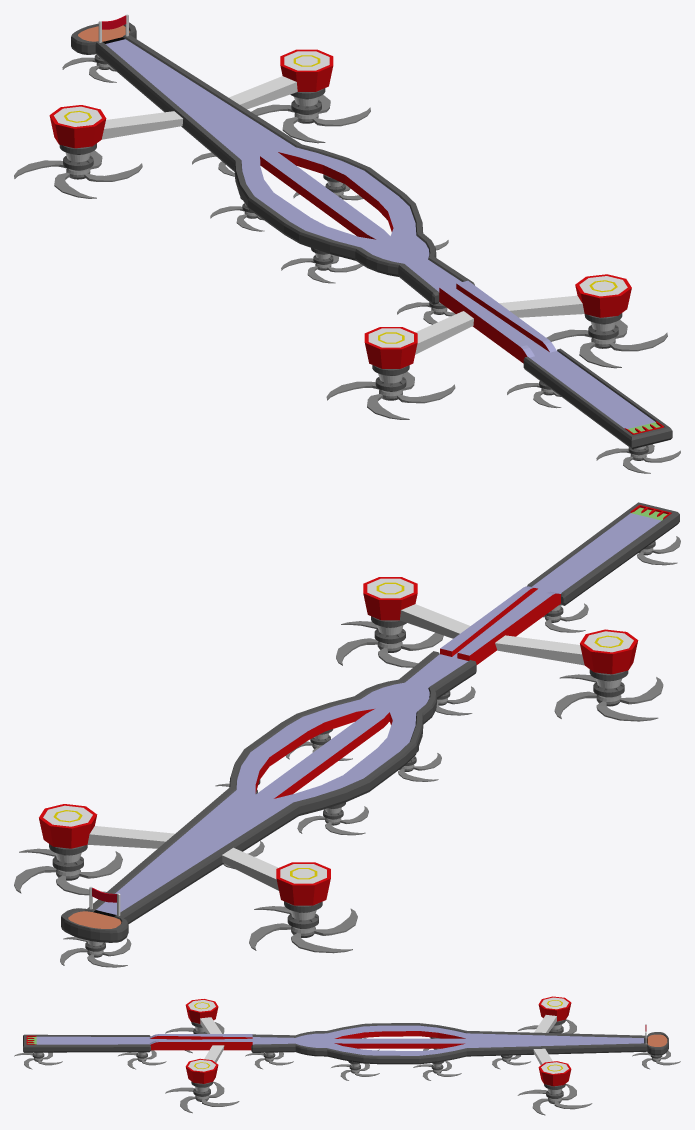
Rendered from DragRace1.fbx.
3 views of the same model, one above another, from view 1: azimuth 30°, elevation 25°; view 2: azimuth 150°, elevation 25°; view 3: azimuth 270°, elevation 25° (orthographic). The views are drawn at different scales.
Visible parts, largest first — view 1: Track, PropellerBases, BigPropeller4, BigPropeller1, BigPropeller2, BigPropeller3, Propeller9; view 2: Track, PropellerBases, BigPropeller1, BigPropeller4, BigPropeller3, BigPropeller2, Propeller1; view 3: Track, PropellerBases, BigPropeller3, BigPropeller2, Propeller8, Propeller9, Propeller1, Propeller3, Propeller7, Propeller5.
Boxes of the visible parts, x1=… form: Track: x1=49, y1=22, x2=672, y2=449; PropellerBases: x1=59, y1=54, x2=648, y2=455; BigPropeller4: x1=14, y1=150, x2=142, y2=198; BigPropeller1: x1=326, y1=371, x2=455, y2=419; BigPropeller2: x1=546, y1=320, x2=667, y2=368; BigPropeller3: x1=251, y1=95, x2=370, y2=143; Propeller9: x1=596, y1=444, x2=680, y2=473; Track: x1=39, y1=502, x2=679, y2=942; PropellerBases: x1=49, y1=541, x2=655, y2=951; BigPropeller1: x1=554, y1=674, x2=663, y2=721; BigPropeller4: x1=249, y1=906, x2=357, y2=953; BigPropeller3: x1=14, y1=848, x2=122, y2=895; BigPropeller2: x1=336, y1=621, x2=443, y2=667; Propeller1: x1=60, y1=936, x2=131, y2=967; Track: x1=23, y1=996, x2=668, y2=1086; PropellerBases: x1=32, y1=1019, x2=662, y2=1098; BigPropeller3: x1=517, y1=1084, x2=592, y2=1115; BigPropeller2: x1=165, y1=1081, x2=239, y2=1113; Propeller8: x1=118, y1=1050, x2=166, y2=1069; Propeller9: x1=14, y1=1052, x2=62, y2=1069; Propeller1: x1=632, y1=1050, x2=680, y2=1069; Propeller3: x1=413, y1=1061, x2=461, y2=1080; Propeller7: x1=245, y1=1052, x2=293, y2=1069; Propeller5: x1=331, y1=1063, x2=379, y2=1080.
Size of the model in its own units: 588 by 120 by 1726.
